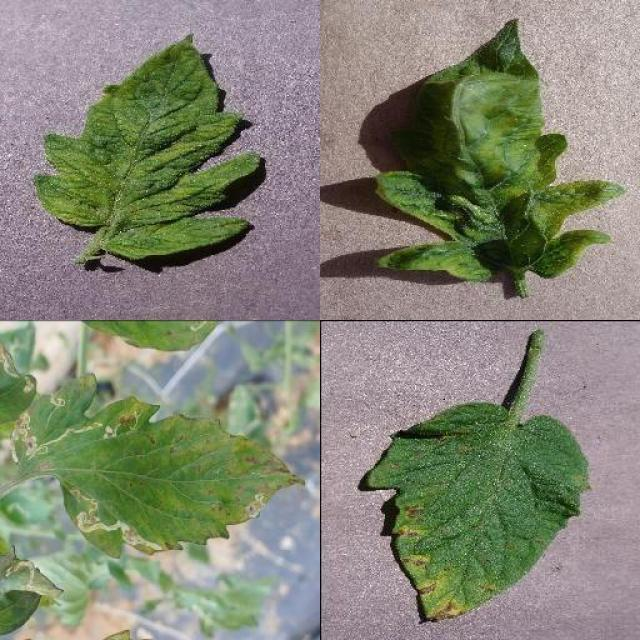Septoria: (366, 399, 589, 621)
